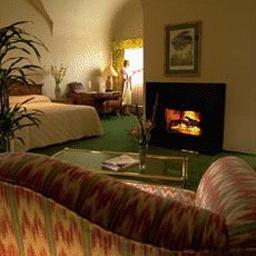Cama: (7, 83, 107, 145)
